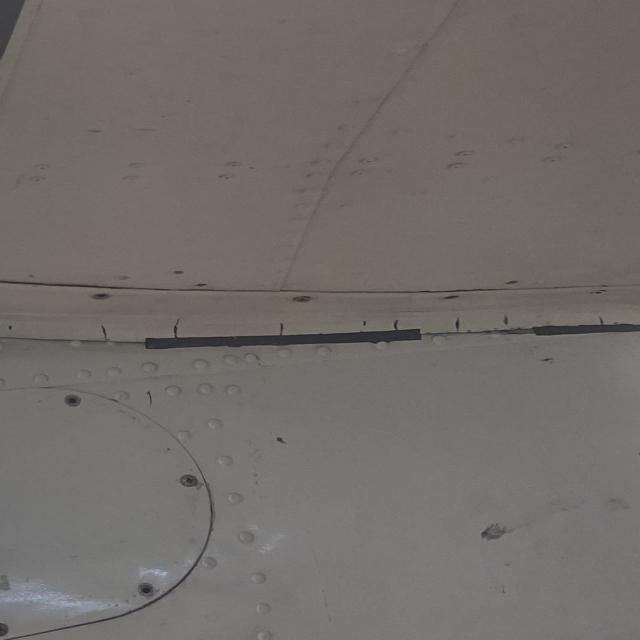Missing-head: (136, 581, 160, 601), (63, 394, 82, 409), (91, 292, 112, 301)
